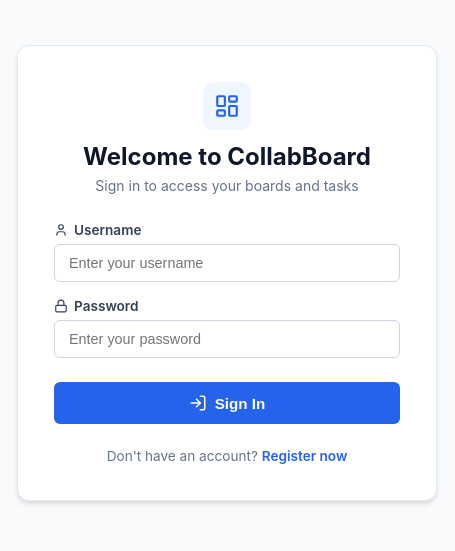
Login Page Component › should display error message on failed login attempt
This screenshot has width=455, height=551.
Type "Sandev" into the field with placeholder "Enter your username" at (227, 263), box [54,244,400,282]
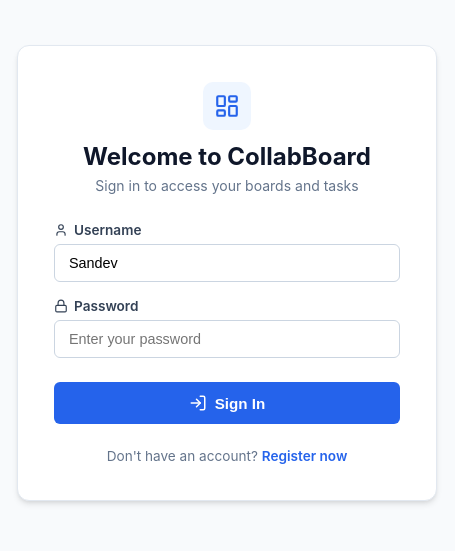
Type "wrongpass" into the password field with placeholder "Enter your password" at (227, 339), box [54,320,400,358]
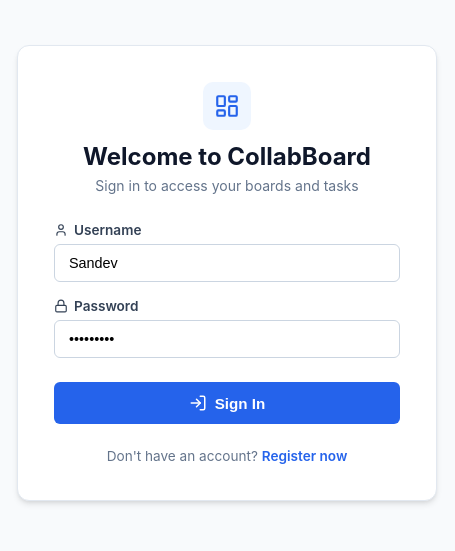
Click the button "Sign In" at (227, 403), box [54,382,400,424]
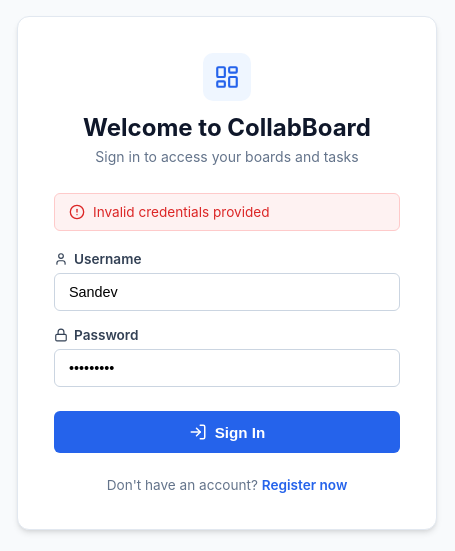
Check: the text "Invalid credentials provided" is shown, box [93,204,270,220]
